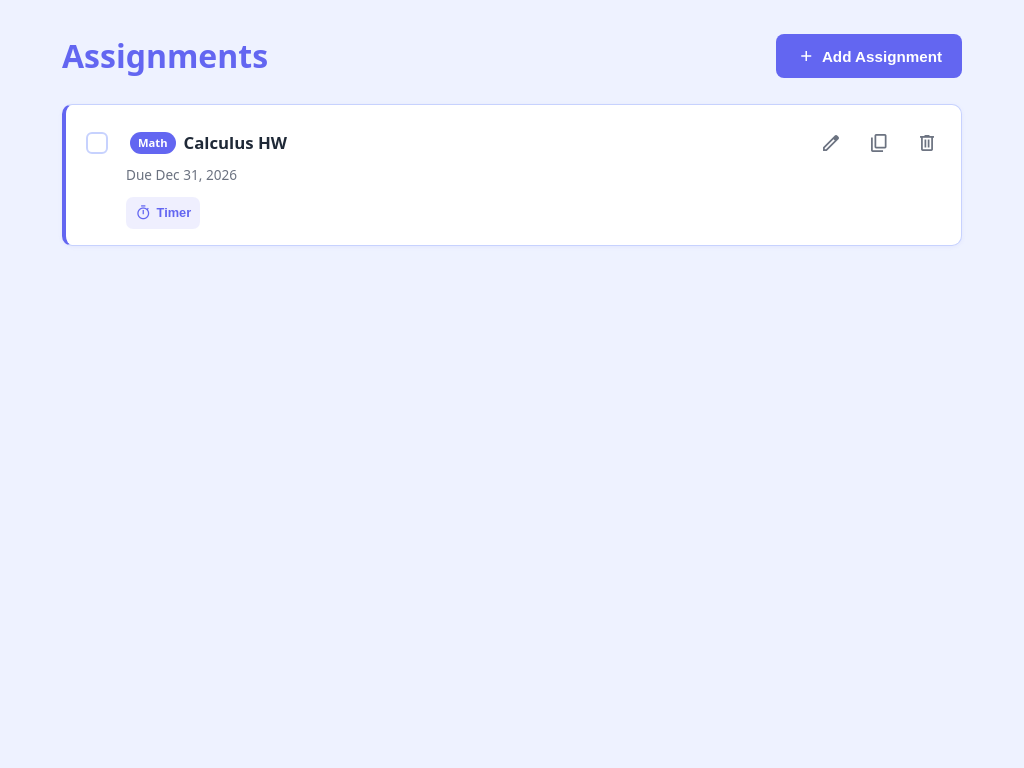
Test: Assignments — delete modal › cancels delete when Cancel is clicked
Click the button named "delete calculus hw".
click(927, 143)  # box [905,121,949,165]
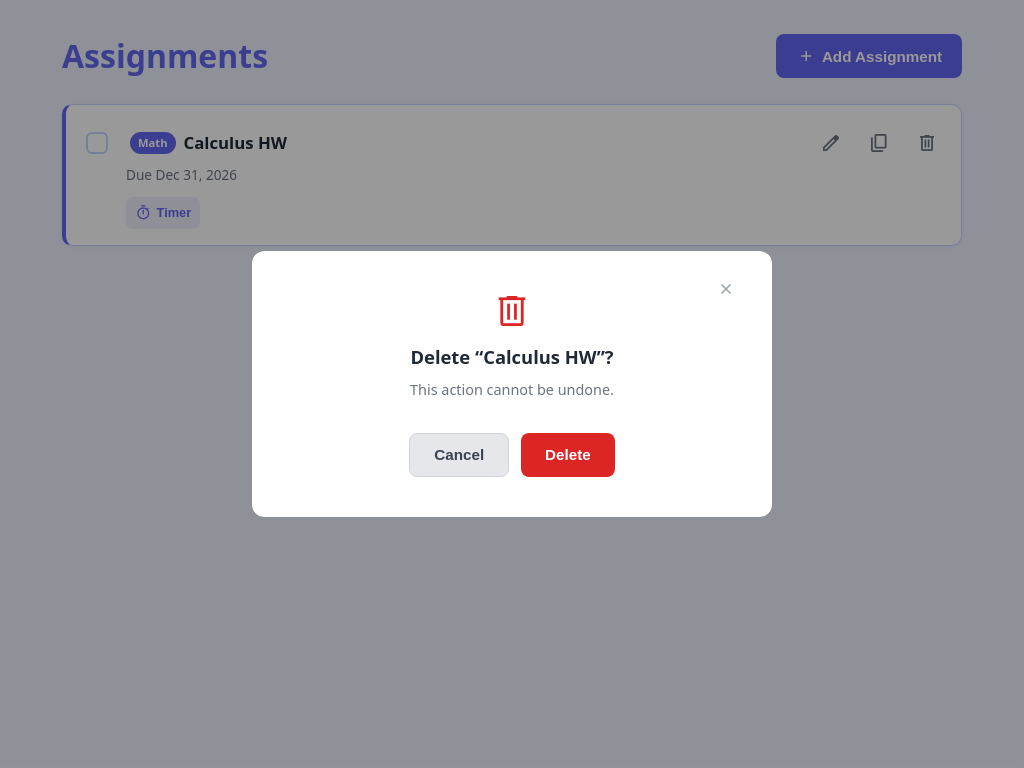
Click the button "Cancel".
click(459, 455)  # box [409,433,509,477]
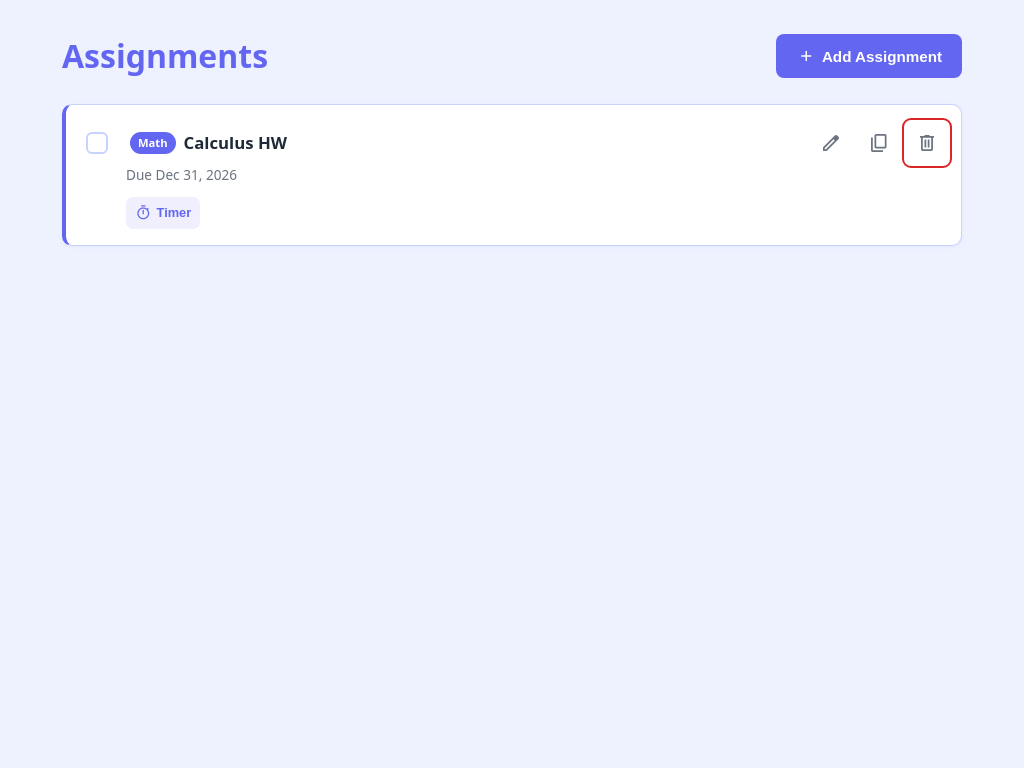
Expected: the text "This action cannot be undone" is gone
